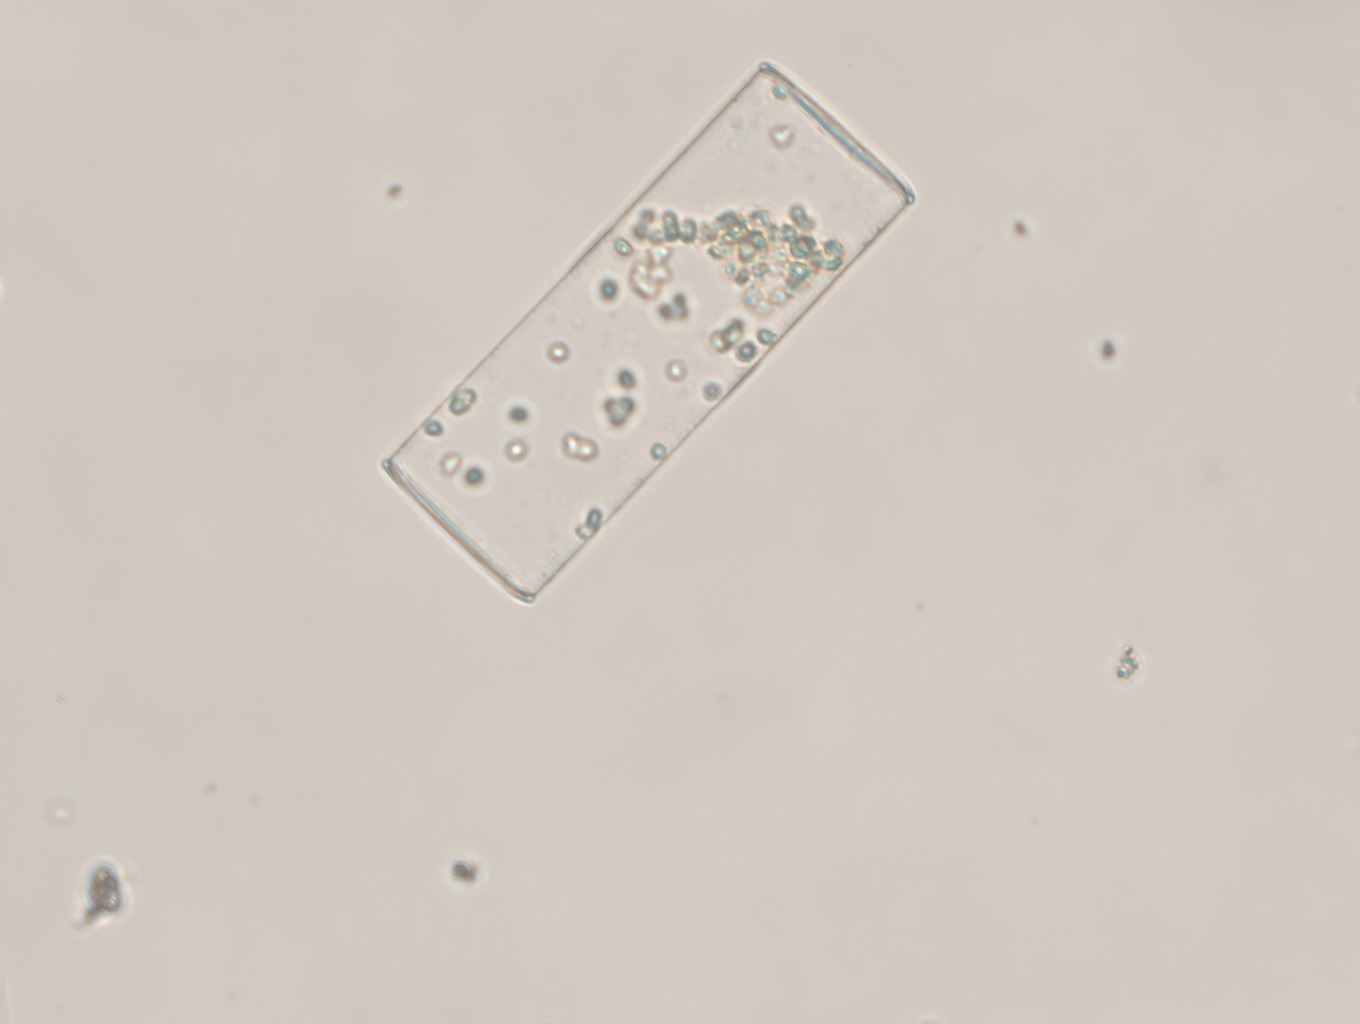guinardia flaccida: (380, 59, 914, 605)
